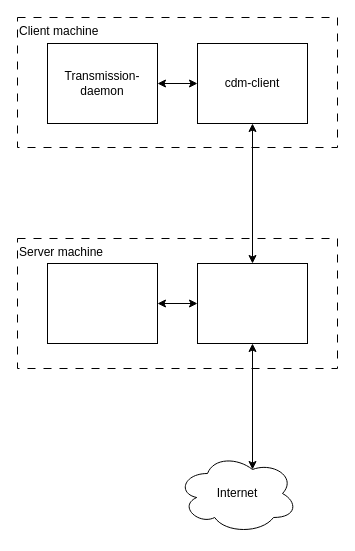
The diagram is 355 pixels wide and 551 high, and some of its shapes have lost their labels. The centre of each missing label's shape, as x and y in pixels:
"cdm-server" belongs at (x=252, y=303).
"database" belongs at (x=102, y=303).
